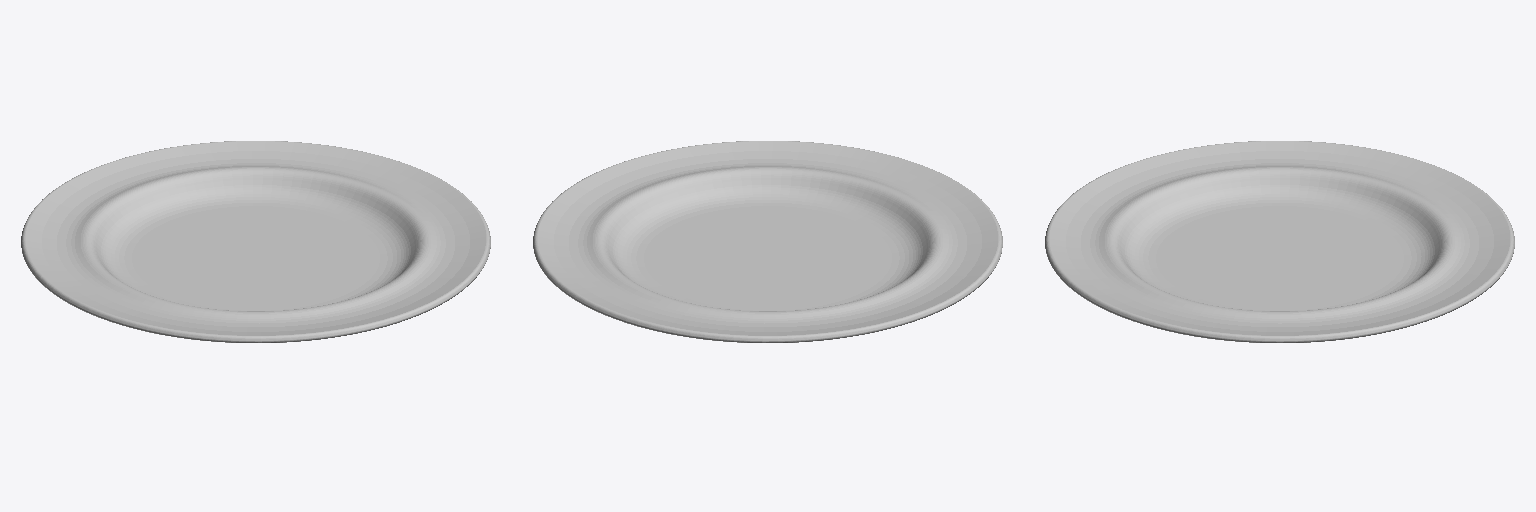
Rendered from plate.obj.
The picture shows the model from 3 angles: view 1: azimuth 30°, elevation 25°; view 2: azimuth 150°, elevation 25°; view 3: azimuth 270°, elevation 25°; orthographic projection.
Visible parts, largest first — view 1: Plate; view 2: Plate; view 3: Plate.
Part boxes in pixels (left/top/right/bottom): Plate: left=21, top=141, right=490, bottom=342; Plate: left=533, top=141, right=1002, bottom=342; Plate: left=1045, top=141, right=1514, bottom=342.
Bounding box in the file's own units: 5.89 × 0.4843 × 5.89.